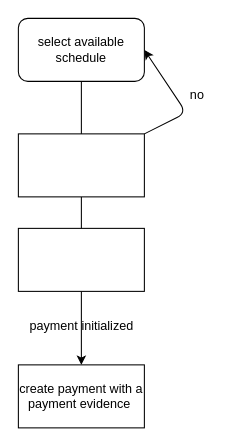
Some shapes in this 236 by 446 pixel diagram are drawn without their labels. The centre of each missing label's shape, as x and y in pixels:
"create booking instance, make it as a new identitiy & make it part of route" goes at pixel 80 259.
"slots available?" goes at pixel 80 165.
